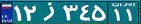character: (58, 2, 79, 24), (91, 1, 107, 23), (39, 2, 56, 22), (22, 2, 38, 22), (79, 2, 91, 24), (13, 3, 23, 22), (124, 8, 135, 23), (112, 7, 122, 22)
